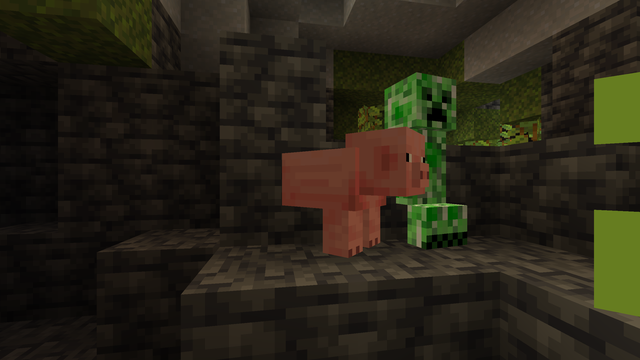cochons: (279, 144, 388, 258)
creepers: (380, 63, 463, 247)
